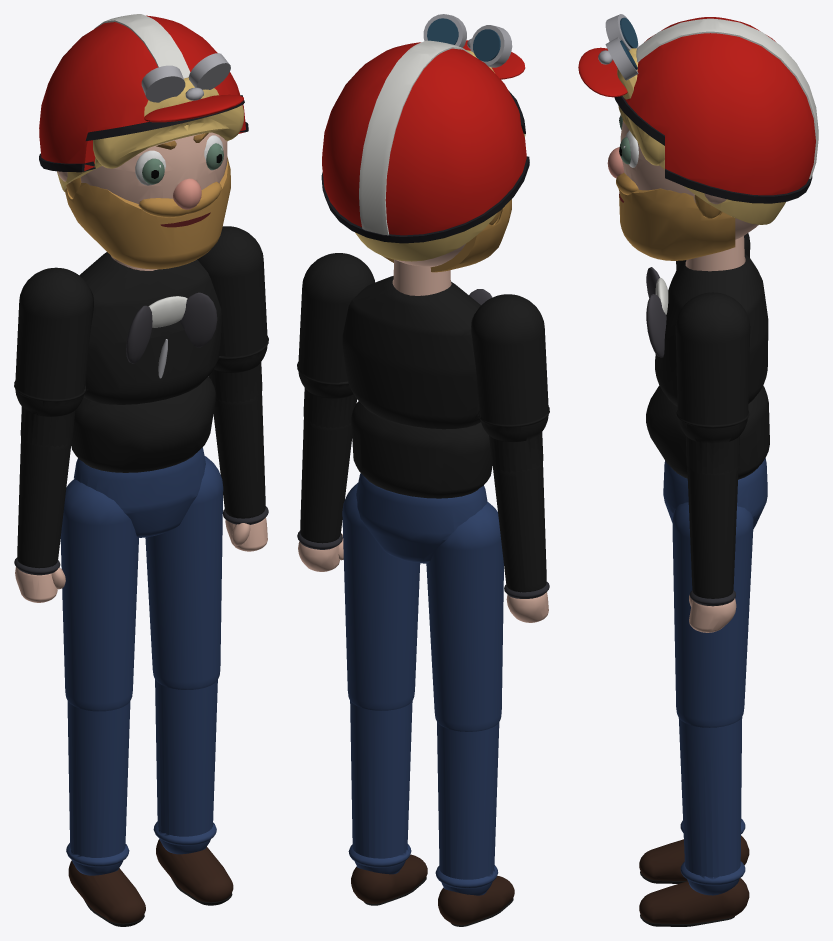
File: fb_mr_motor.glb
The picture shows the model from 3 angles, left to right: view 1: azimuth 30°, elevation 25°; view 2: azimuth 150°, elevation 25°; view 3: azimuth 270°, elevation 25°; orthographic projection.
Visible parts, largest first — view 1: creature; view 2: creature; view 3: creature.
Part boxes in pixels (x1,y1,x2,y2): creature: [14, 14, 268, 926]; creature: [297, 14, 549, 926]; creature: [578, 14, 818, 926].
Bounding box in the file's own units: 0.2981 × 1 × 0.2482.
